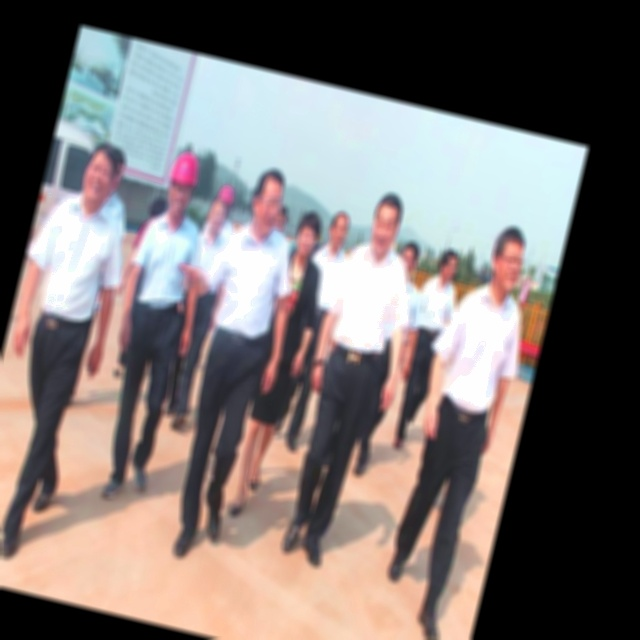Con_Casco: (162, 149, 204, 217)
Sin_Casco_Mascarrilla: (485, 223, 531, 295), (244, 165, 289, 236)
Sin_Chaleco: (28, 190, 126, 328), (325, 239, 414, 363)
